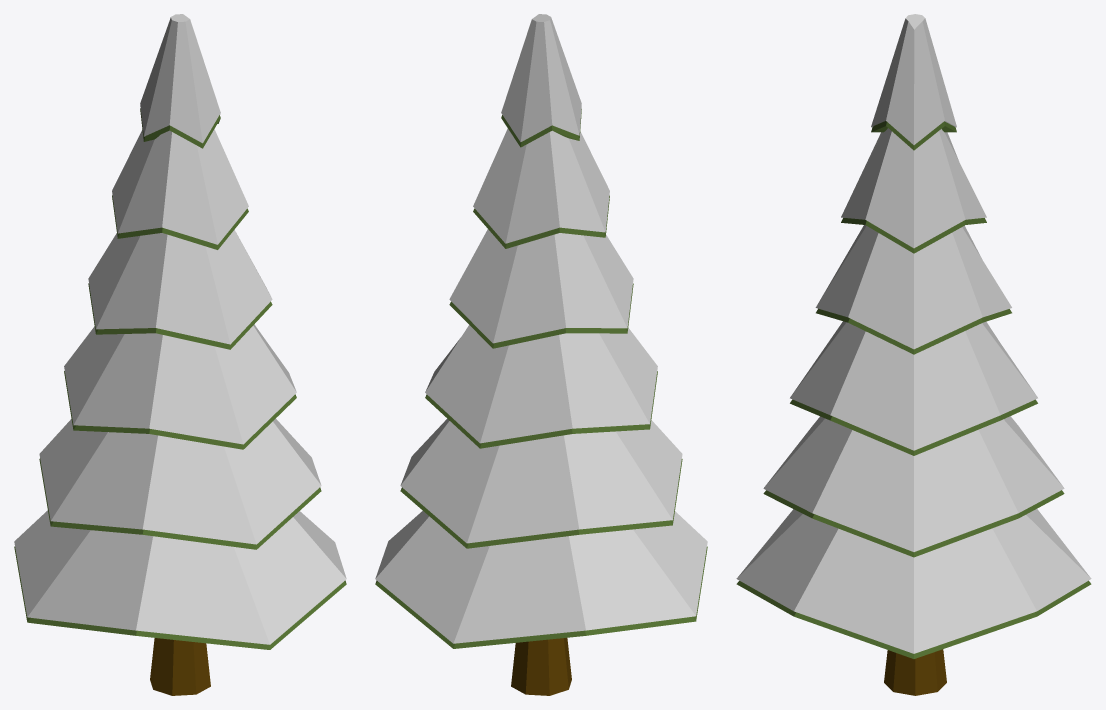
The model's file is tree_snow.fbx.
3 renders of one model, left to right at view 1: azimuth 30°, elevation 25°; view 2: azimuth 150°, elevation 25°; view 3: azimuth 270°, elevation 25°, orthographic.
Parts seen in each view (by area): view 1: Cylinder.004, Cylinder.003, Cylinder.002; view 2: Cylinder.004, Cylinder.003, Cylinder.002; view 3: Cylinder.004, Cylinder.003, Cylinder.002.
Boxes of the visible parts, <box> form: Cylinder.004: <box>14,14,346,644</box>; Cylinder.003: <box>14,108,346,649</box>; Cylinder.002: <box>150,638,210,695</box>; Cylinder.004: <box>375,14,707,643</box>; Cylinder.003: <box>375,109,707,648</box>; Cylinder.002: <box>511,638,571,695</box>; Cylinder.004: <box>736,14,1091,653</box>; Cylinder.003: <box>736,121,1091,658</box>; Cylinder.002: <box>884,649,946,695</box>.
Size of the model in its own units: 368 by 760 by 368.
